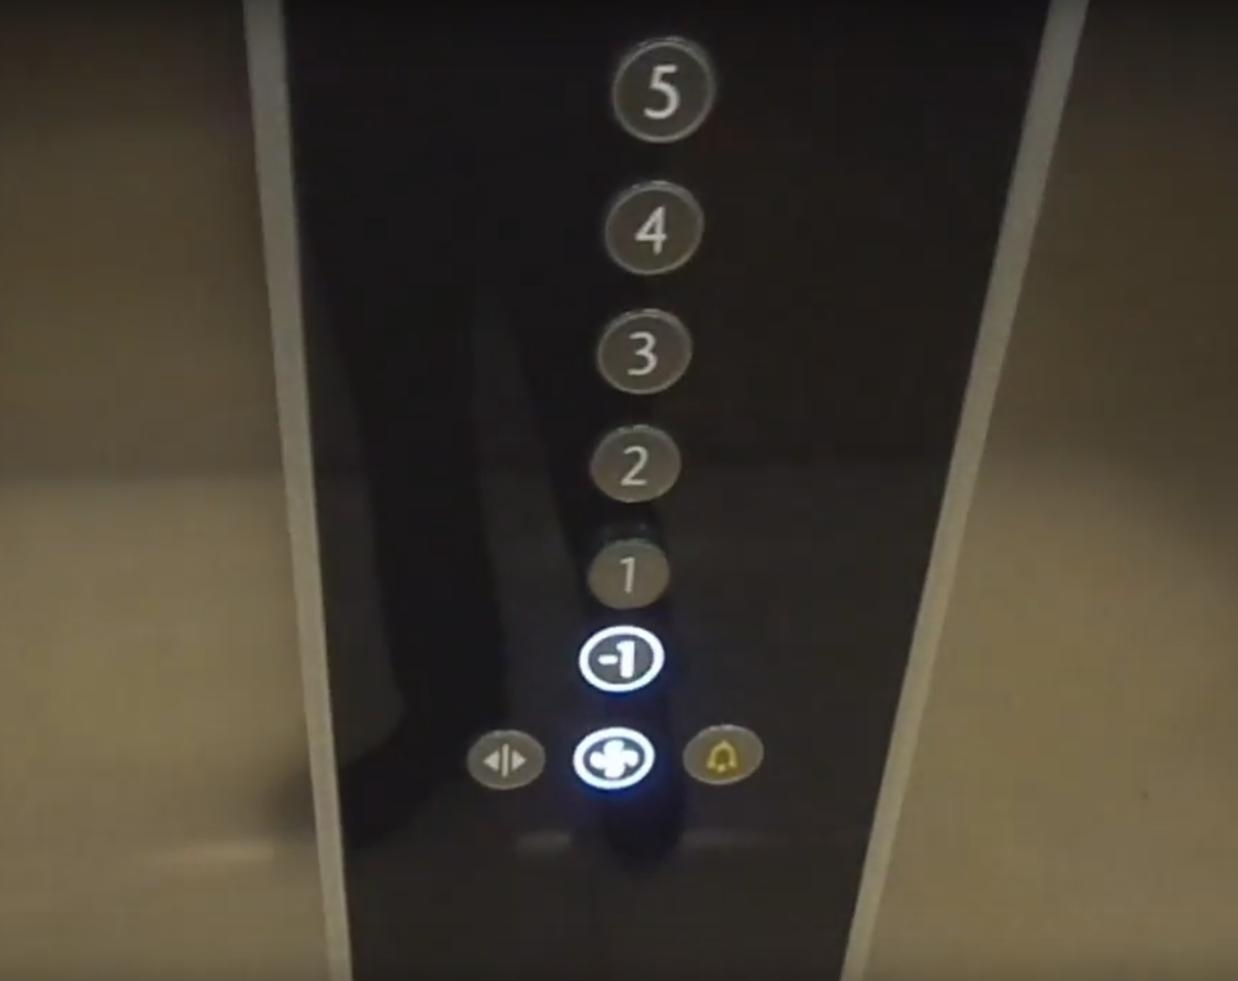-1: (576, 622, 663, 696)
1: (584, 535, 670, 610)
2: (583, 419, 684, 505)
3: (595, 303, 693, 396)
4: (601, 174, 704, 278)
5: (605, 36, 718, 143)
alarm: (679, 720, 766, 788)
fan: (569, 725, 658, 793)
open: (464, 726, 549, 794)
